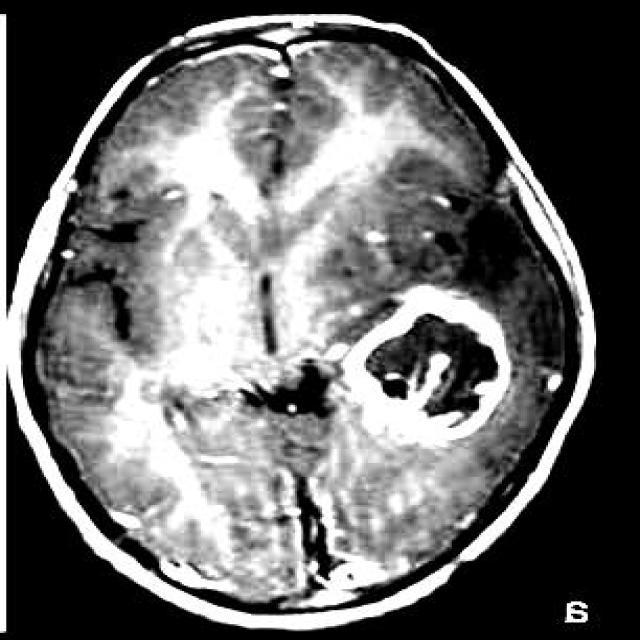brain tumor: (333, 284, 508, 445)
